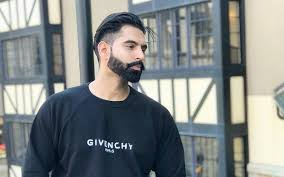b.y: (110, 59, 145, 84)
